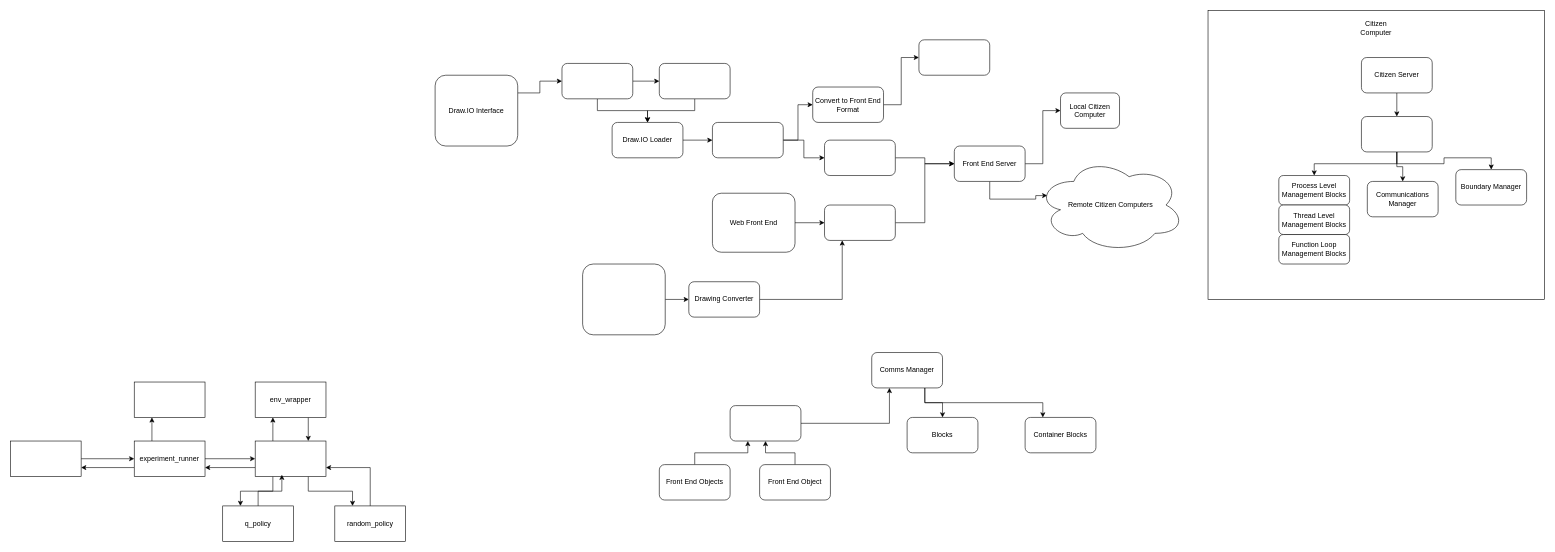
Image size: 1555x552. Some labels were removed from this diagram. Each missing label, with the centre of its shape:
"CASA Run Graph" belongs at [859,222].
"Change Listener" belongs at [694,81].
"Computation Manager" belongs at [1396,134].
"Convert to CASA Run Graph" belongs at [859,158].
"Convert to String" belongs at [747,140].
"Drawn Front End" belongs at [623,299].
"experiment_generator" belongs at [45,458].
"Front End Container" belongs at [765,423].
"Live Front End" belongs at [954,57].
"policy_orchestrator" belongs at [290,458].
"Run Directory" belongs at [597,81].
"run_visualizer" belongs at [169,399].
